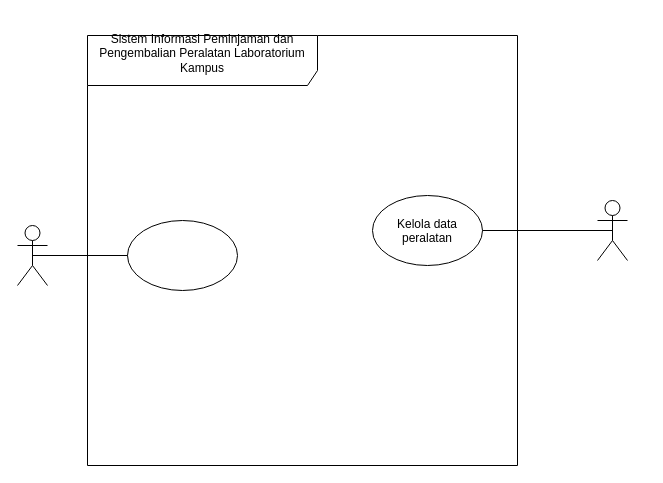
This 663x483 diagram has some shape labels left out. The shapes that lost their labels are listed below. From the top down, each one's centre as x and y in pixels, then its label:
the point at 612,230: Petugas Lab
the point at 182,255: Lihat ketersediaan peralatan
